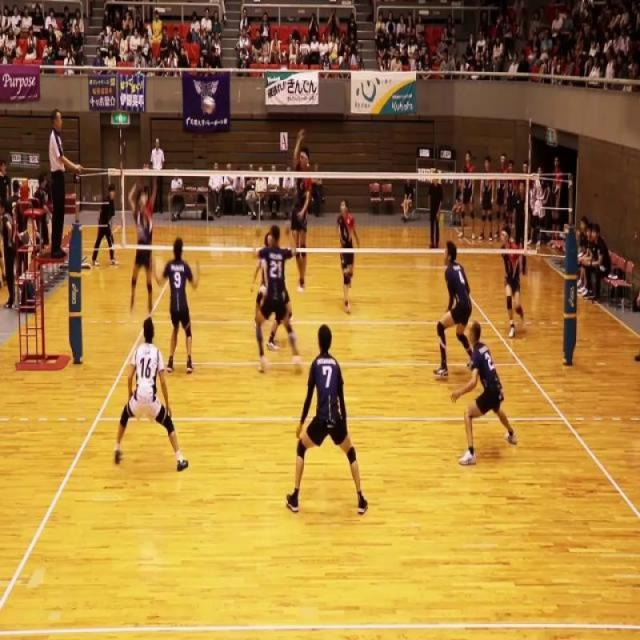volleyball: (202, 93, 216, 114)
